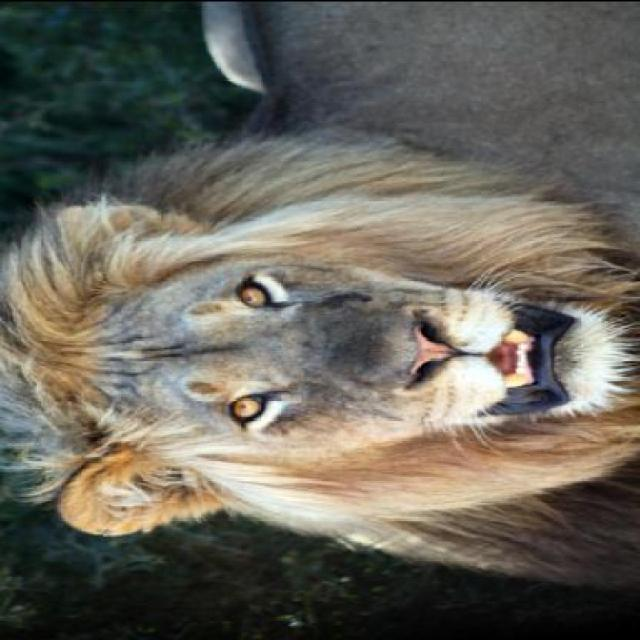Lion: (17, 138, 638, 580)
